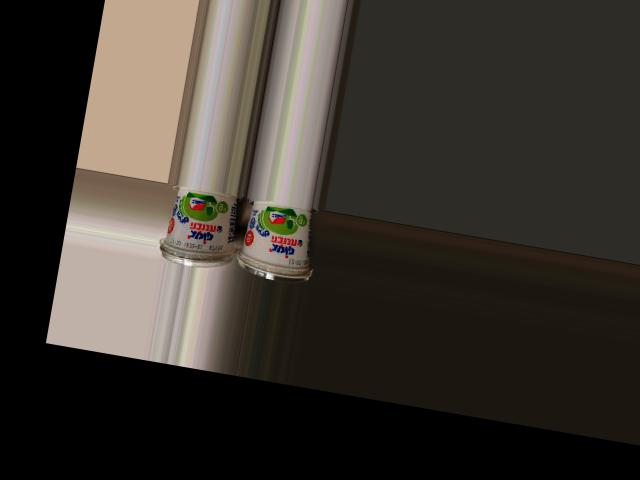cotage: (233, 196, 317, 283)
